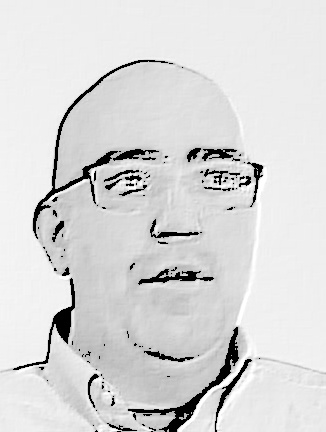nose_M_C: (148, 174, 211, 264)
